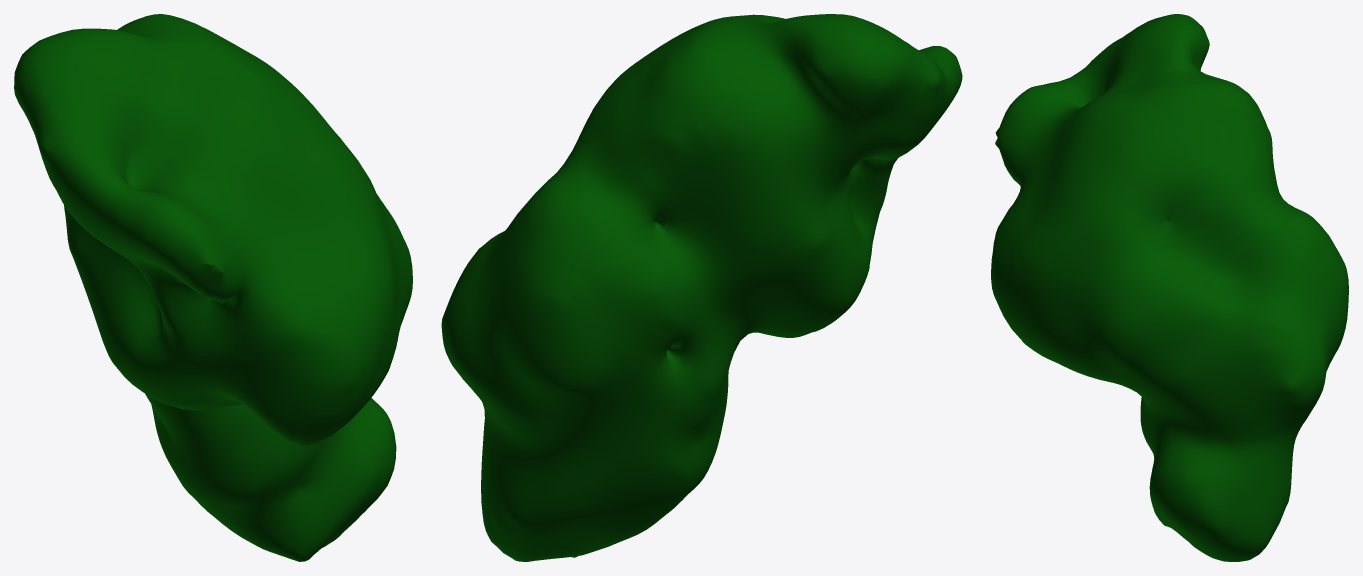
Rendered from Lesion.obj.
3 views of the same model, side by side, from view 1: azimuth 30°, elevation 25°; view 2: azimuth 150°, elevation 25°; view 3: azimuth 270°, elevation 25° (orthographic). The views are drawn at different scales.
Parts seen in each view (by area): view 1: grp1; view 2: grp1; view 3: grp1.
Boxes of the visible parts, left/top/right/bottom form: grp1: left=14, top=14, right=412, bottom=561; grp1: left=441, top=14, right=962, bottom=561; grp1: left=991, top=14, right=1348, bottom=561.
Size of the model in its own units: 34.9 by 49.28 by 36.11.
